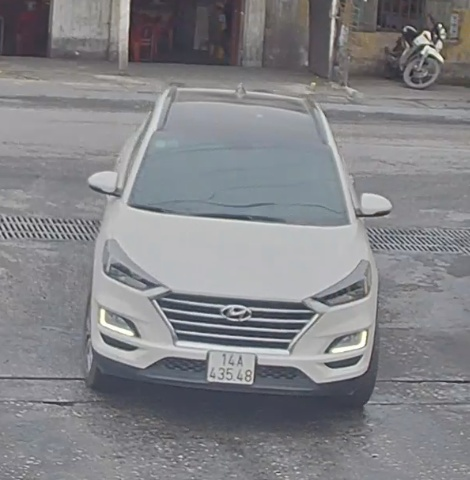vehicle plate: (203, 344, 260, 391)
